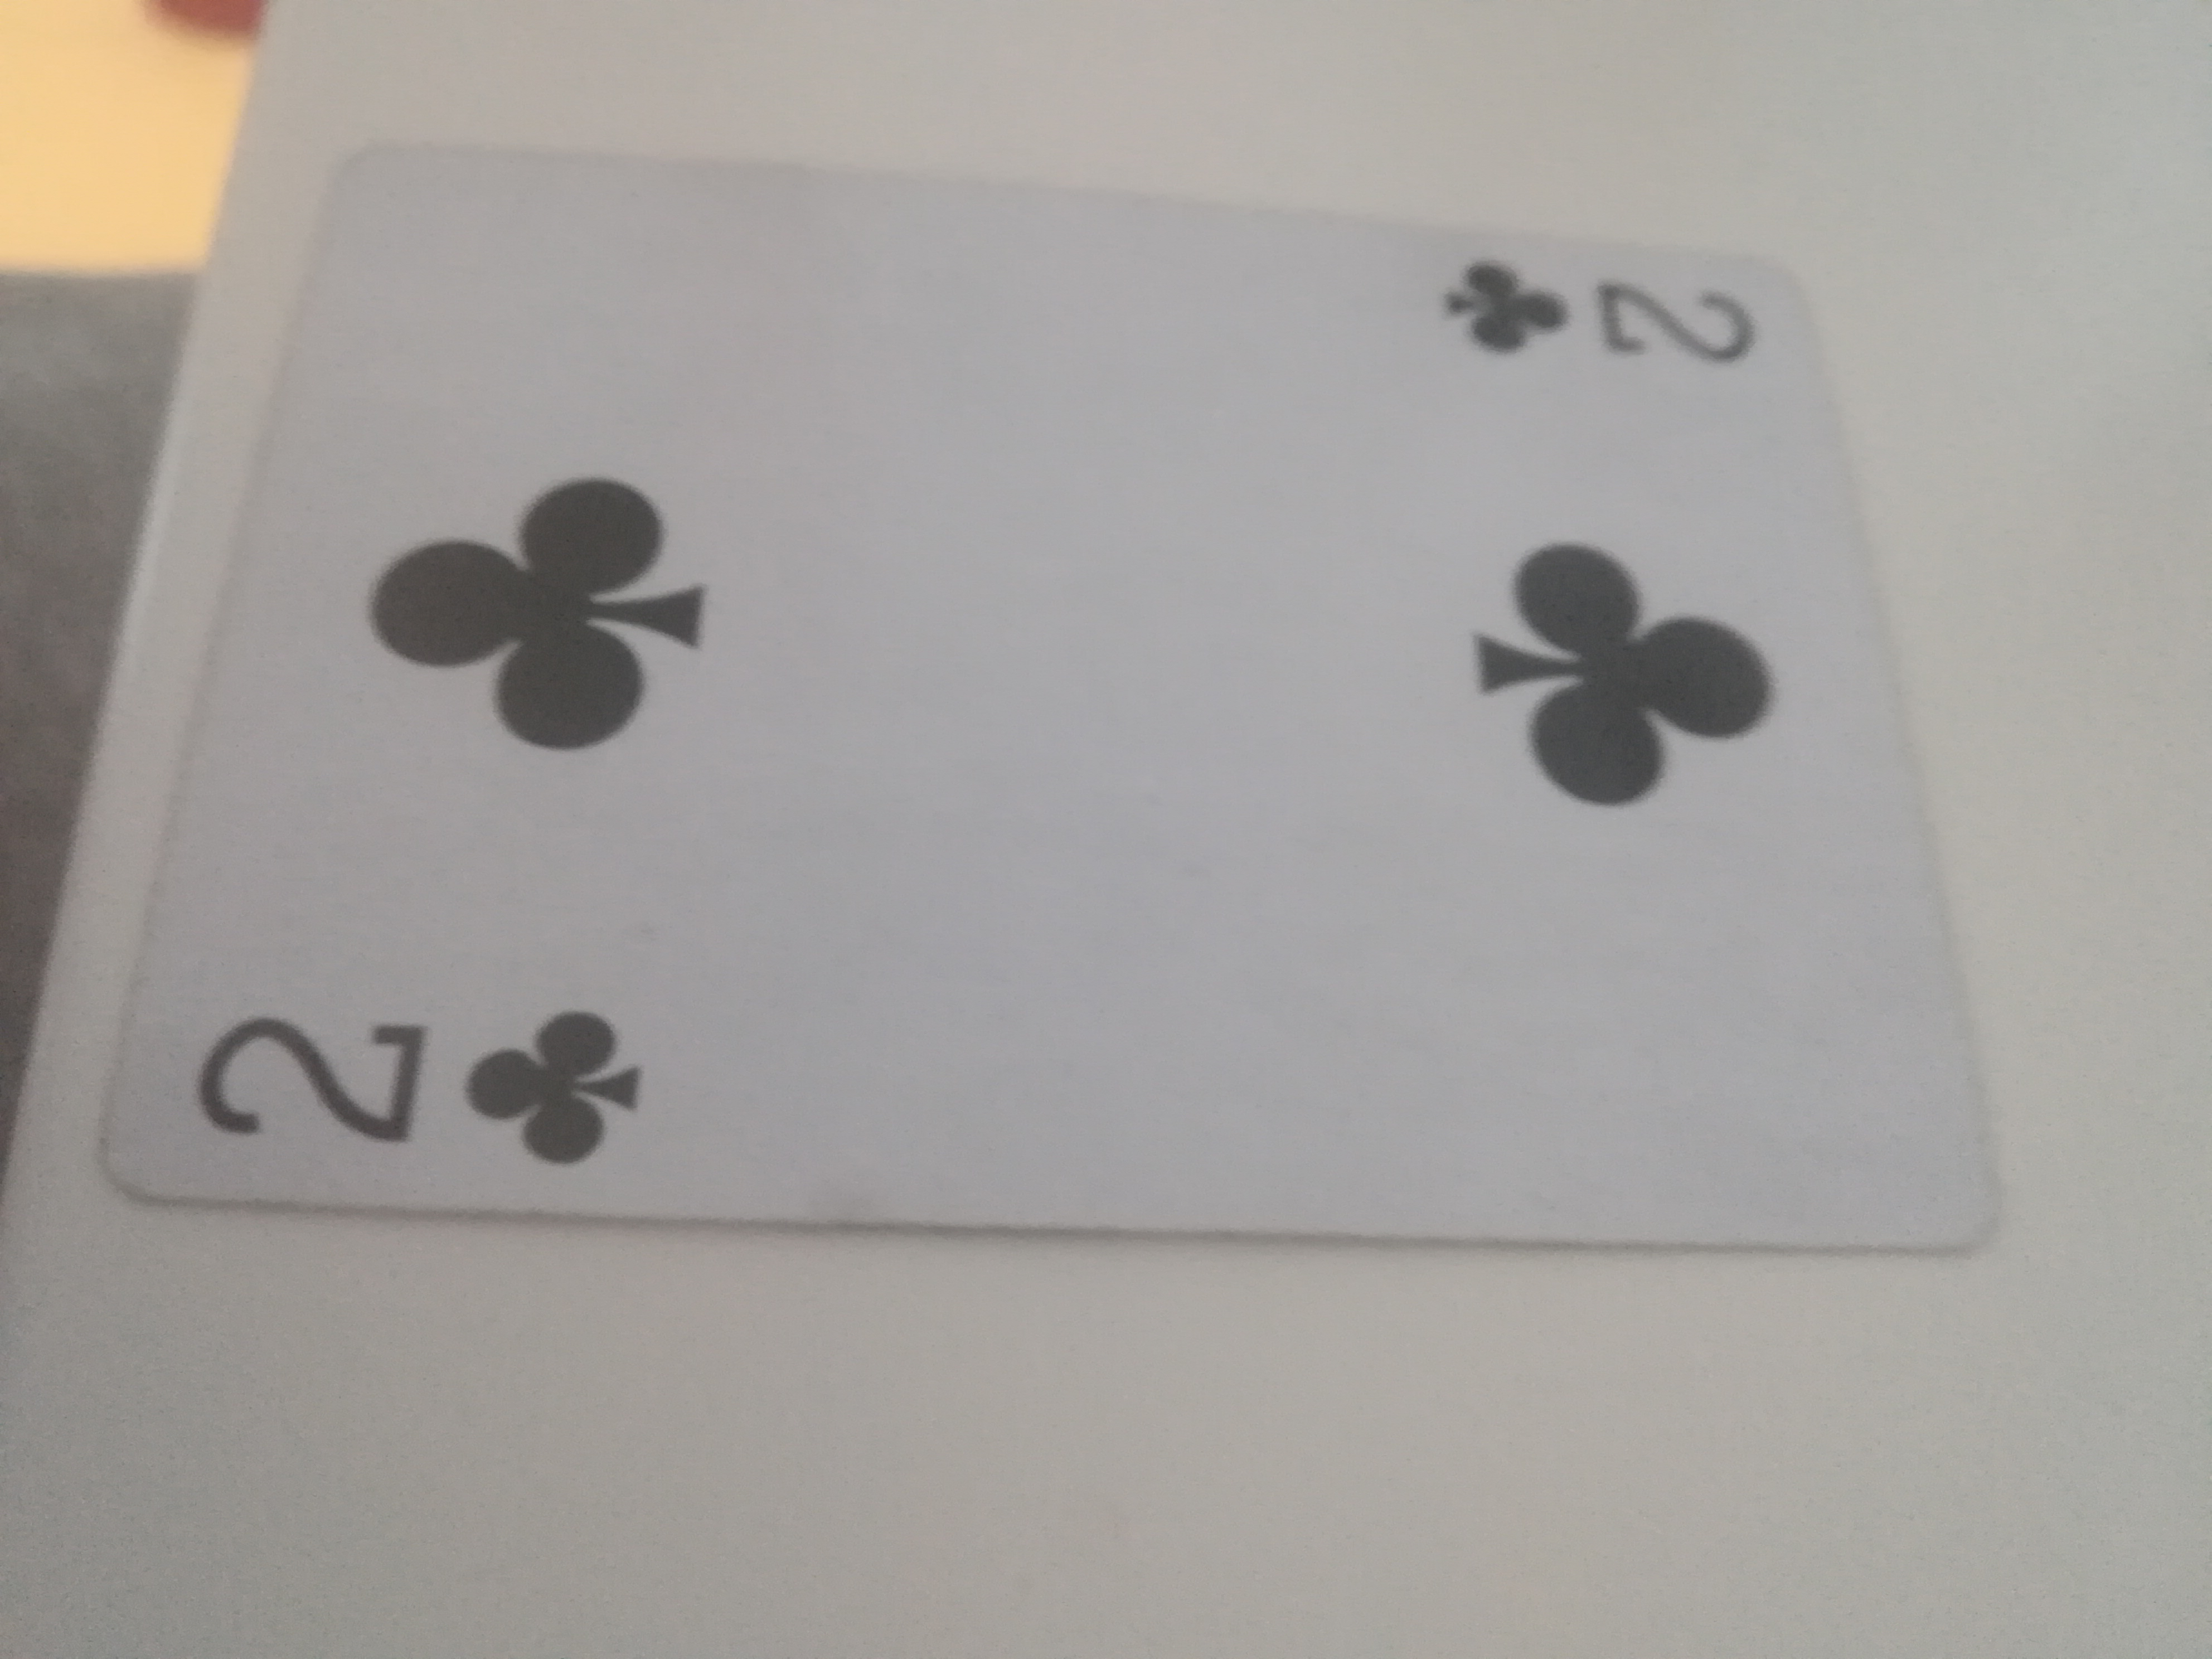2C: (82, 160, 2010, 1262)
